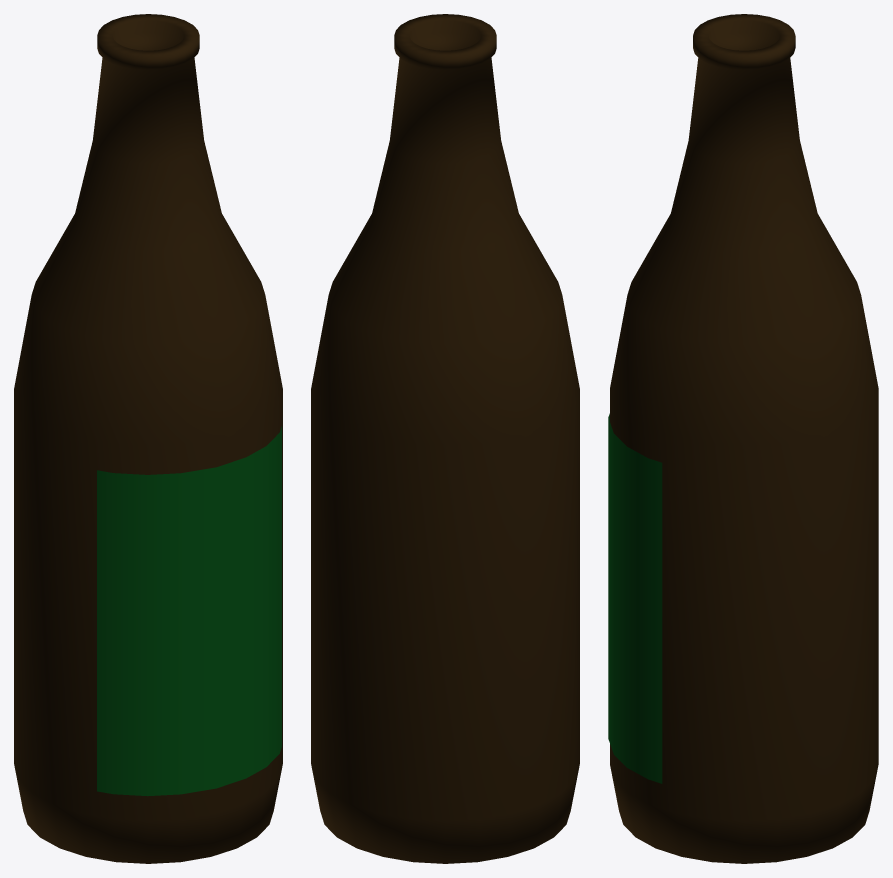
Rendered from BeerBottle.fbx.
3 views of the same model, side by side, from view 1: azimuth 30°, elevation 25°; view 2: azimuth 150°, elevation 25°; view 3: azimuth 270°, elevation 25° (orthographic).
Visible parts, largest first — view 1: GlassBottle; view 2: GlassBottle; view 3: GlassBottle.
Boxes of the visible parts, x1,y1,x2,y2 form: GlassBottle: (14, 14, 282, 863); GlassBottle: (311, 14, 579, 863); GlassBottle: (608, 14, 878, 863).
Bounding box in the file's own units: 5.19 × 16.52 × 5.22.
